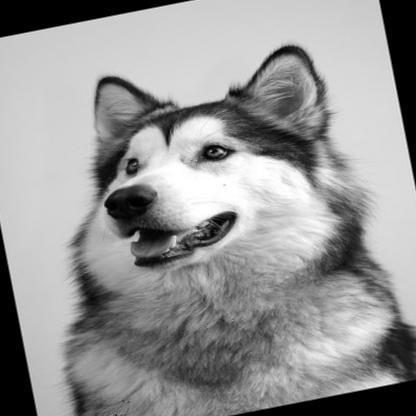malamute: (1, 18, 416, 416)
